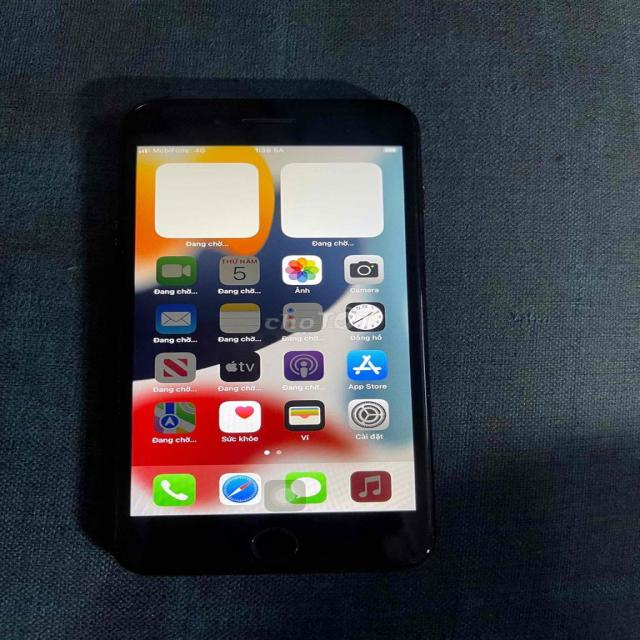gen_7_8: (104, 83, 438, 575)
